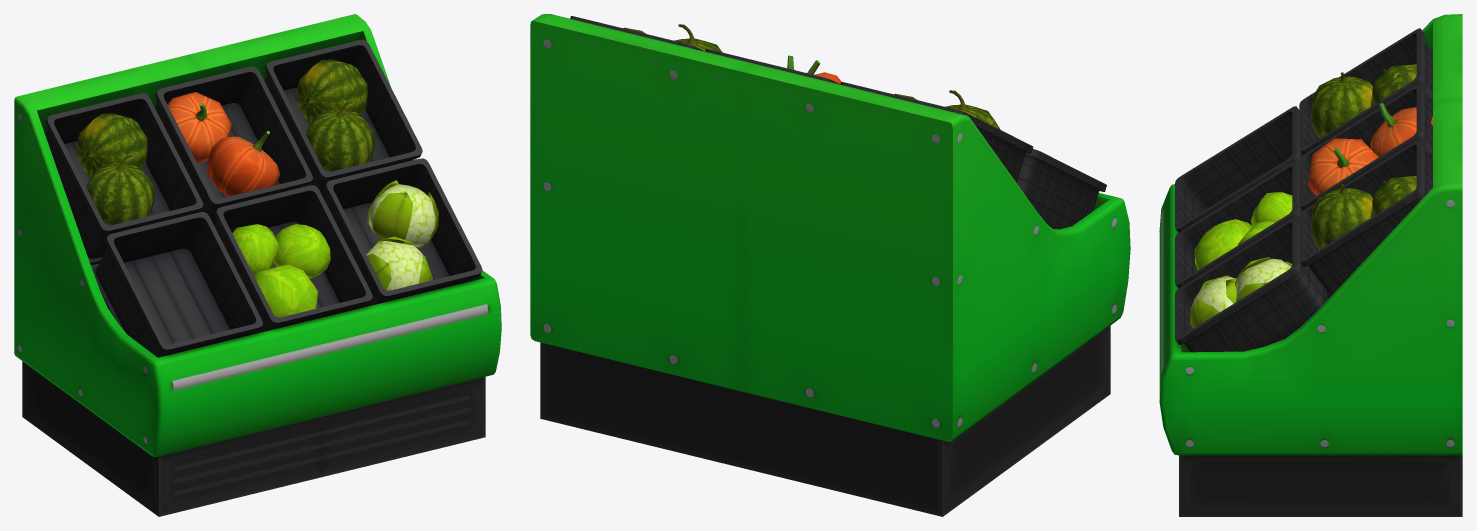
Rendered from CommRackVegetables01_2.FBX.
The picture shows the model from 3 angles, left to right: view 1: azimuth 30°, elevation 25°; view 2: azimuth 150°, elevation 25°; view 3: azimuth 270°, elevation 25°; orthographic projection. The views are drawn at different scales.
Parts seen in each view (by area): view 1: CommRackVegetables01_2; view 2: CommRackVegetables01_2; view 3: CommRackVegetables01_2.
Boxes of the visible parts, <box> form: CommRackVegetables01_2: <box>14,14,501,516</box>; CommRackVegetables01_2: <box>530,14,1130,516</box>; CommRackVegetables01_2: <box>1159,14,1462,516</box>.
Size of what is drawn, in the model's own units: 1.51 by 1.35 by 1.11.
